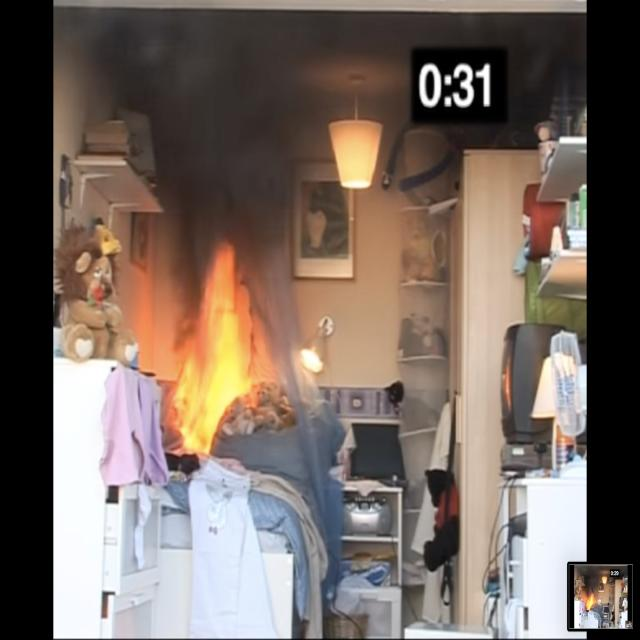Fogo: (141, 220, 315, 496)
